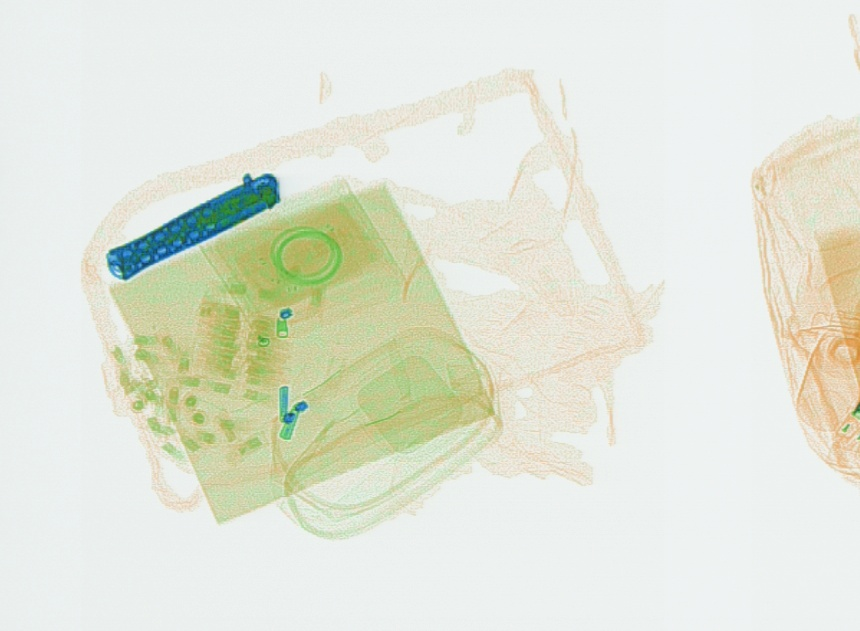firecrackers: (108, 280, 290, 463)
knife: (103, 171, 281, 280)
